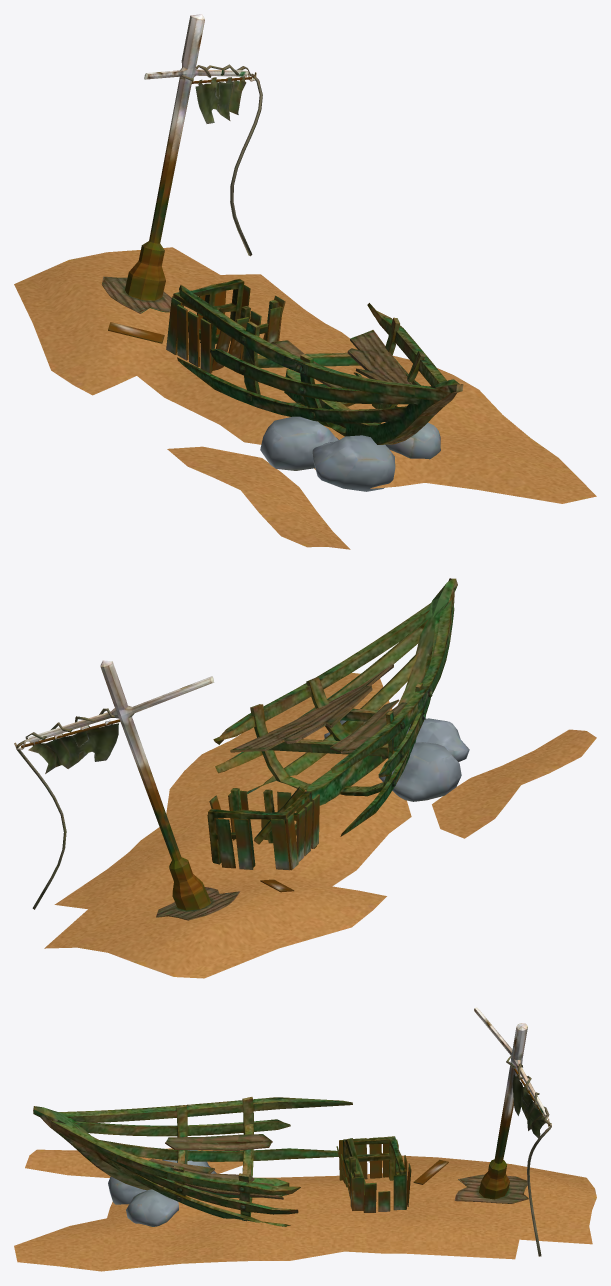
The model's file is beach-wreck.lod0.glb.
3 views of the same model, one above another, from view 1: azimuth 30°, elevation 25°; view 2: azimuth 150°, elevation 25°; view 3: azimuth 270°, elevation 25° (orthographic). The views are drawn at different scales.
Parts seen in each view (by area): view 1: Cube.002_0; view 2: Cube.002_0; view 3: Cube.002_0.
Boxes of the visible parts, x1=… form: Cube.002_0: x1=14, y1=14, x2=596, y2=549; Cube.002_0: x1=14, y1=578, x2=596, y2=978; Cube.002_0: x1=14, y1=1007, x2=596, y2=1271.
Size of the model in its own units: 6 by 5.17 by 12.89.
1 material, 1 textured.
